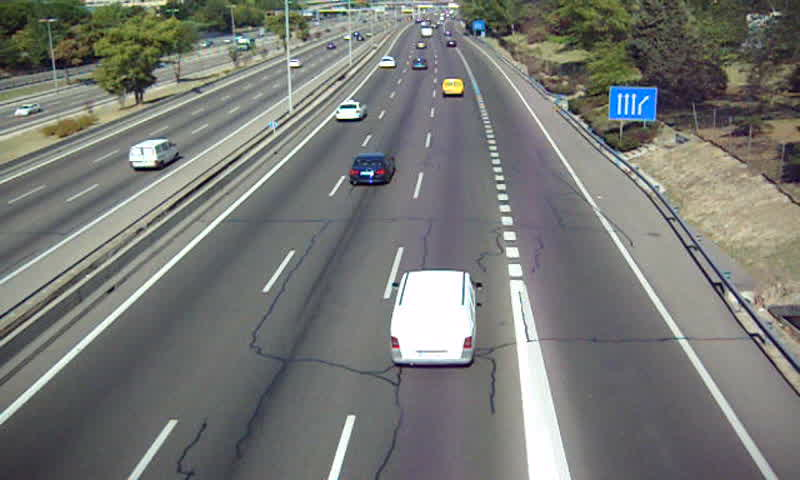car: (349, 154, 394, 186), (334, 102, 368, 122), (410, 57, 428, 71), (378, 56, 395, 69)
van: (390, 271, 478, 364), (441, 78, 463, 97)
